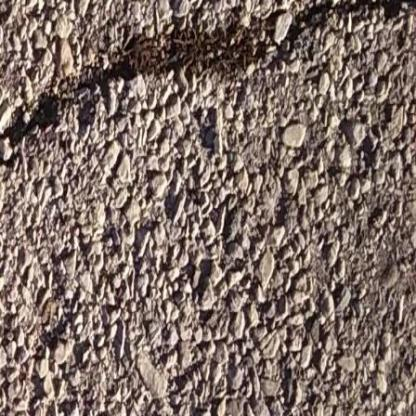Cracks: (0, 0, 416, 160)
